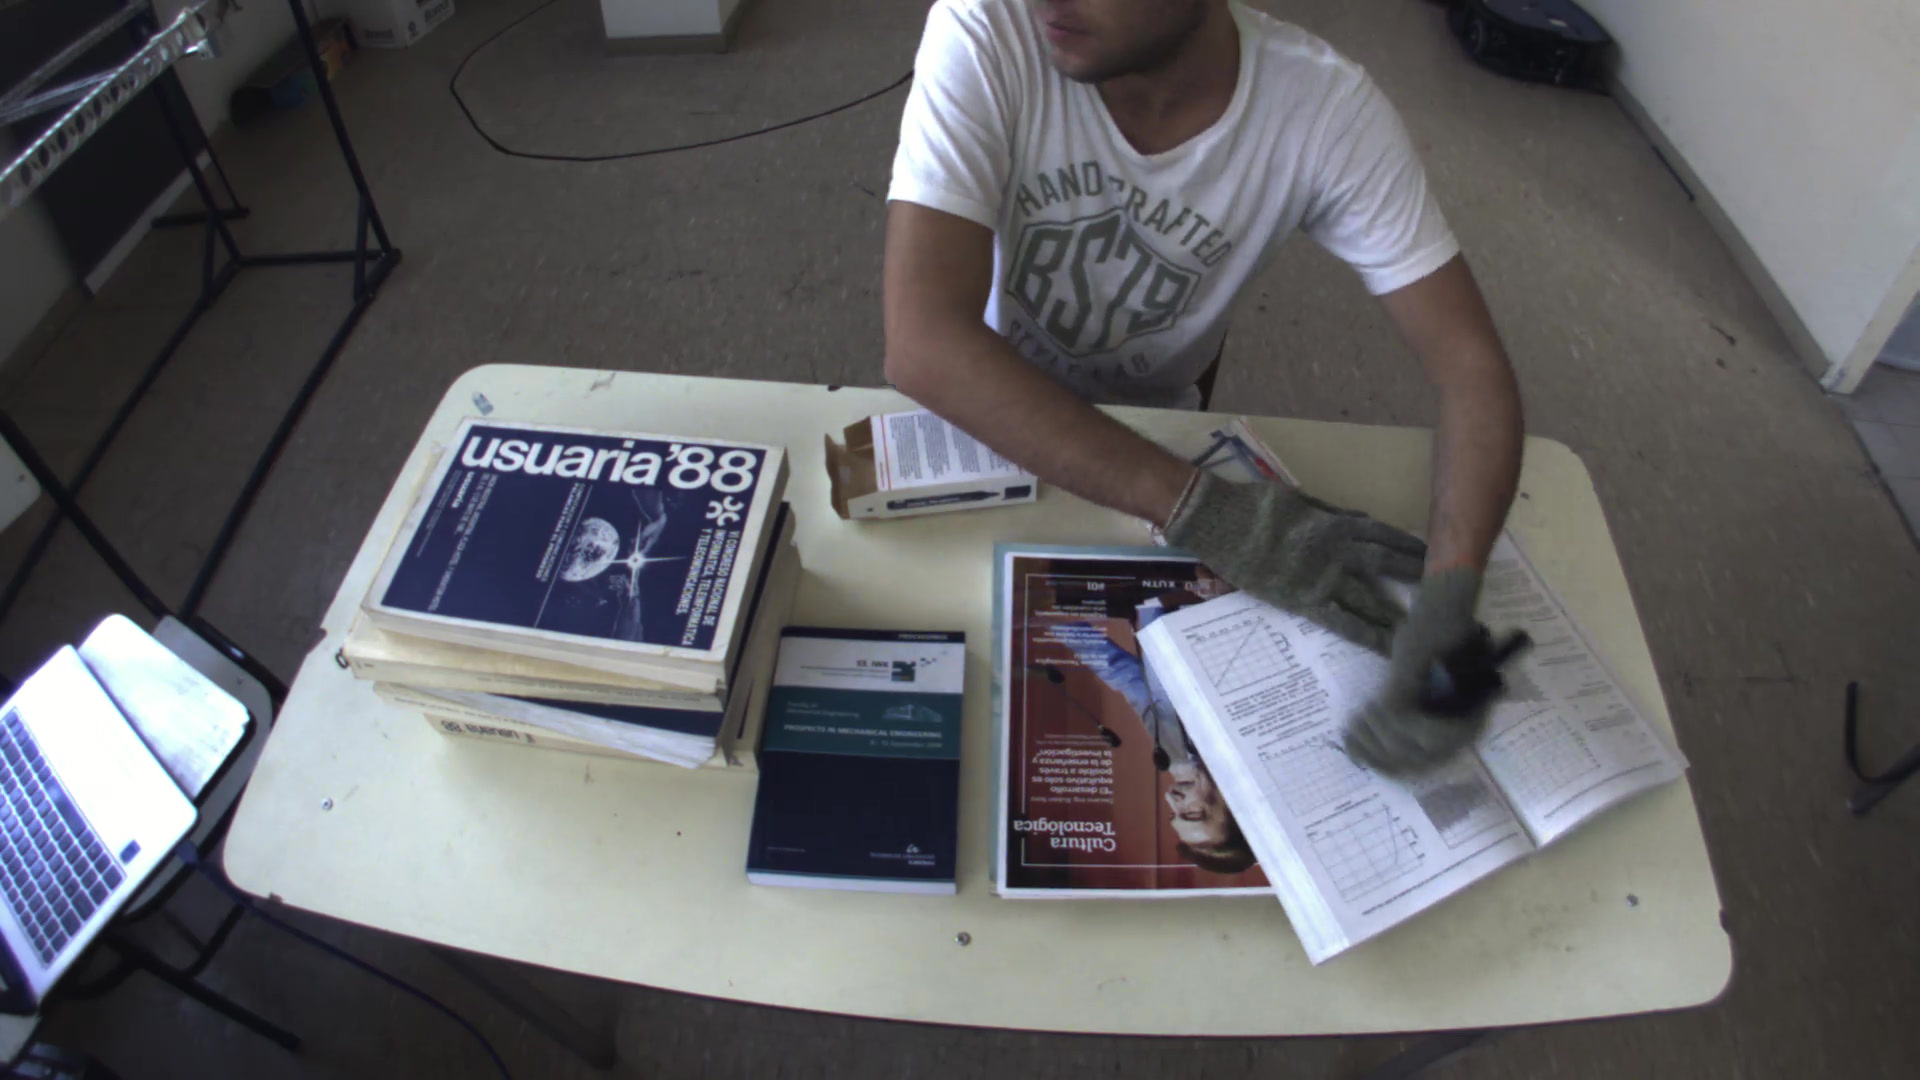hand: (1327, 547, 1520, 791), (1156, 471, 1432, 640)
